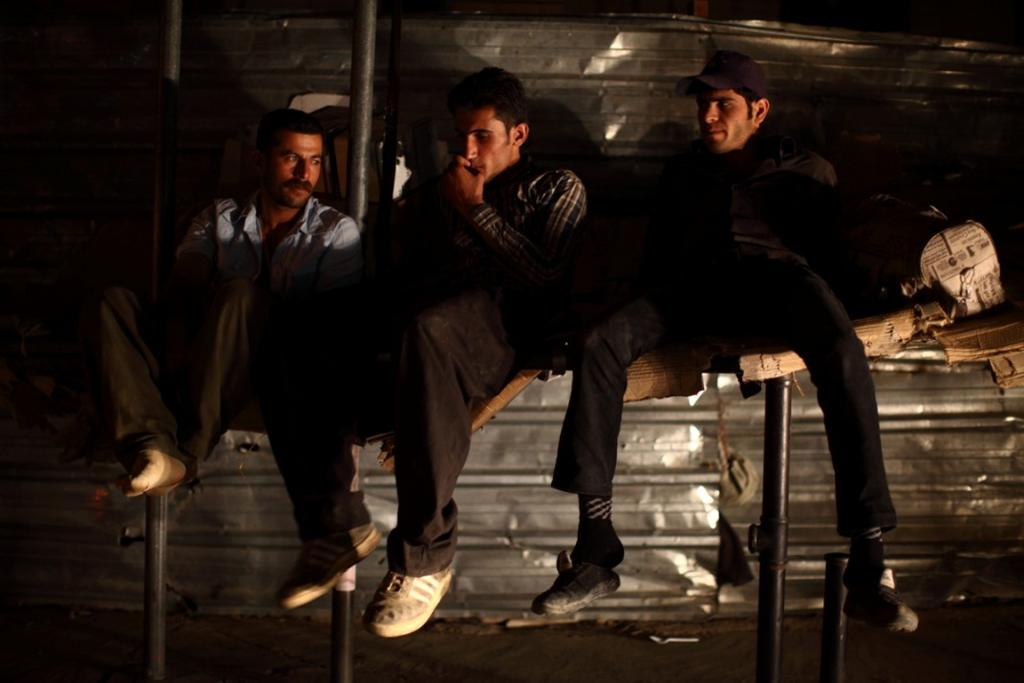face: (452, 108, 509, 179), (268, 133, 321, 207), (695, 87, 749, 153)
